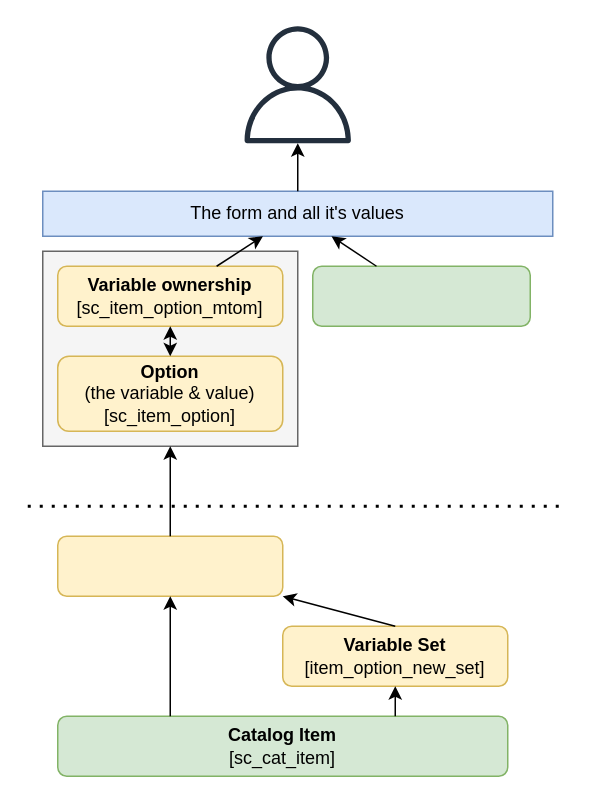
The diagram is 596 pixels wide and 803 high, and some of its shapes have lost their labels. The centre of each missing label's shape, as x and y in pixels:
Requested Item [sc_req_item]: the point at 420,295
Variable [item_option_new]: the point at 169,565
